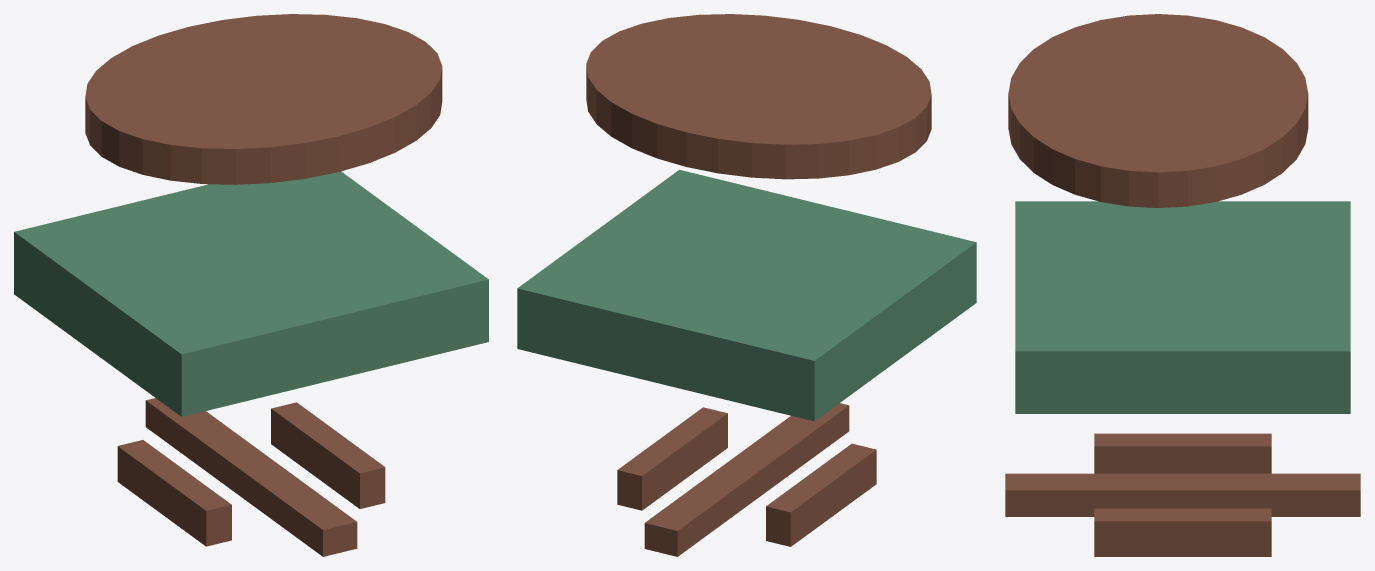
File: chair_bankers.glb
3 renders of one model, left to right at view 1: azimuth 30°, elevation 25°; view 2: azimuth 150°, elevation 25°; view 3: azimuth 270°, elevation 25°, orthographic. The views are drawn at different scales.
Parts seen in each view (by area): view 1: Cube.004, Cylinder, Cube.003, Cube.001, Cube.002, Cube; view 2: Cube.004, Cylinder, Cube.001, Cube.003, Cube, Cube.002; view 3: Cube.004, Cylinder, Cube.001, Cube.003, Cube, Cube.002.
Boxes of the visible parts, x1,y1,x2,y2 form: Cube.004: (14, 171, 488, 416); Cylinder: (85, 14, 442, 184); Cube.003: (117, 440, 231, 546); Cube.001: (271, 402, 385, 508); Cube.002: (234, 457, 357, 556); Cube: (145, 398, 267, 491); Cube.004: (517, 169, 976, 421); Cylinder: (586, 14, 931, 179); Cube.001: (617, 407, 727, 510); Cube.003: (766, 443, 876, 546); Cube: (644, 460, 763, 556); Cube.002: (731, 403, 849, 493); Cube.004: (1015, 201, 1350, 413); Cylinder: (1008, 14, 1308, 207); Cube.001: (1094, 508, 1271, 556); Cube.003: (1094, 433, 1271, 473); Cube: (1183, 473, 1360, 516); Cube.002: (1005, 473, 1182, 516).
Bounding box in the file's own units: 0.76 × 0.94 × 0.72.
